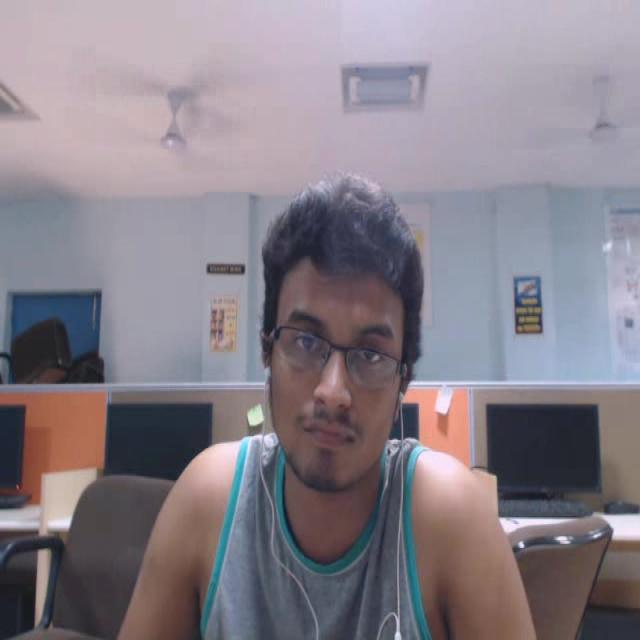Bored: (251, 152, 467, 513)
